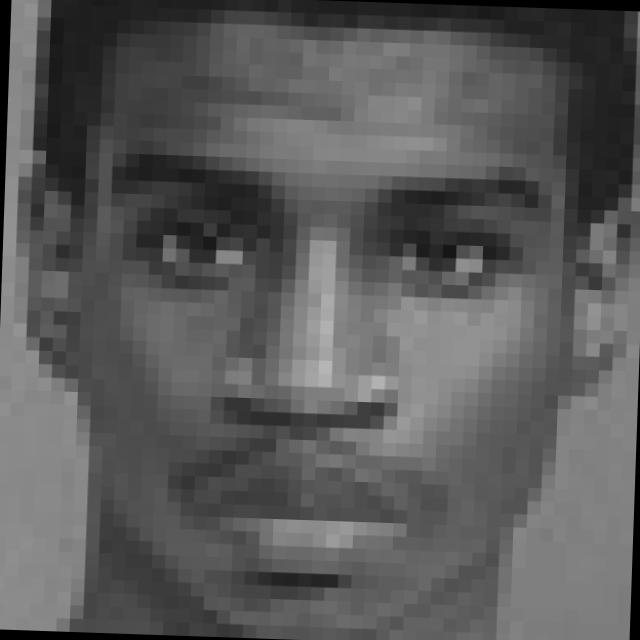neutral: (80, 141, 558, 594)
